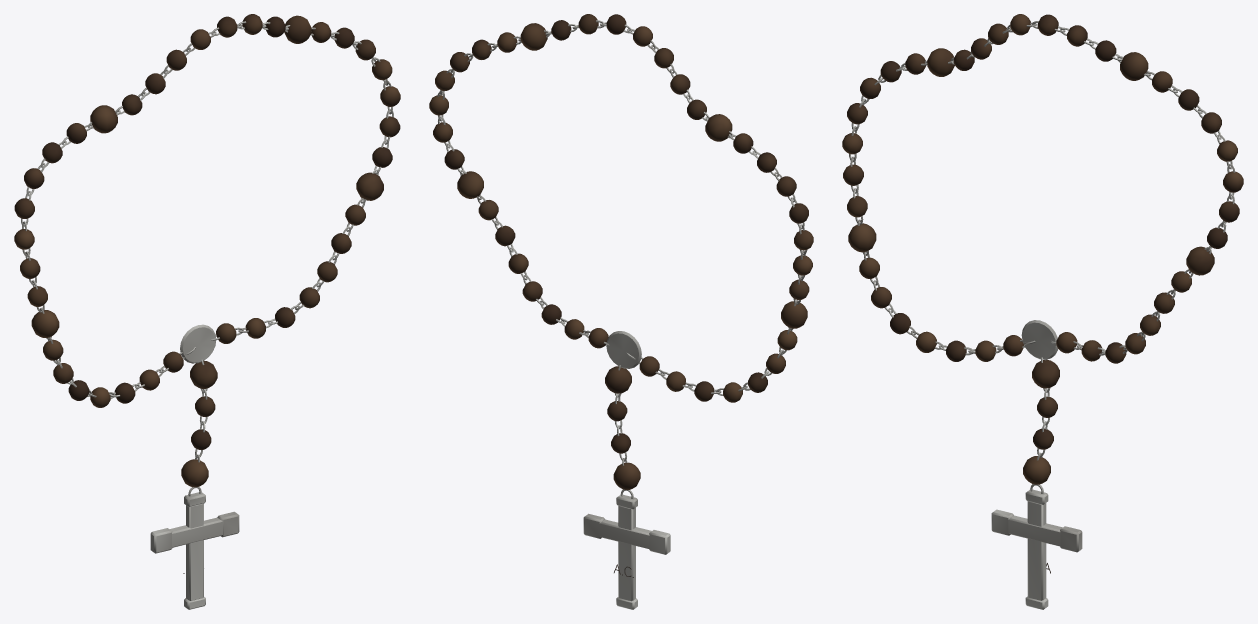
The model's file is crane-rosary.glb.
The picture shows the model from 3 angles, left to right: view 1: azimuth 30°, elevation 25°; view 2: azimuth 150°, elevation 25°; view 3: azimuth 330°, elevation 25°; orthographic projection. The views are drawn at different scales.
Visible parts, largest first — view 1: crane-rosary; view 2: crane-rosary; view 3: crane-rosary.
Part boxes in pixels (x1,y1,x2,y2): crane-rosary: [14, 14, 400, 609]; crane-rosary: [429, 14, 813, 609]; crane-rosary: [842, 14, 1243, 609].
Size of the model in its own units: 0.183 by 0.2673 by 0.0195.
